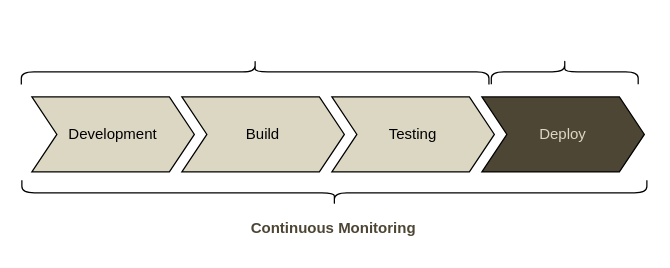
Image size: 670x268. Some labels were removed from this diagram. Each missing label, with the centre of its shape:
CD: (x=564, y=71)
CI: (x=254, y=71)
